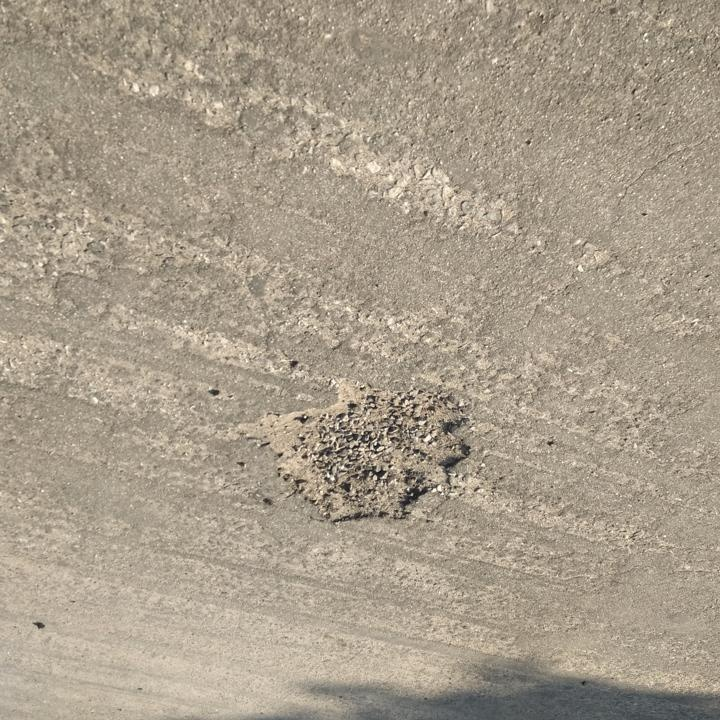pothole: (235, 372, 476, 529)
